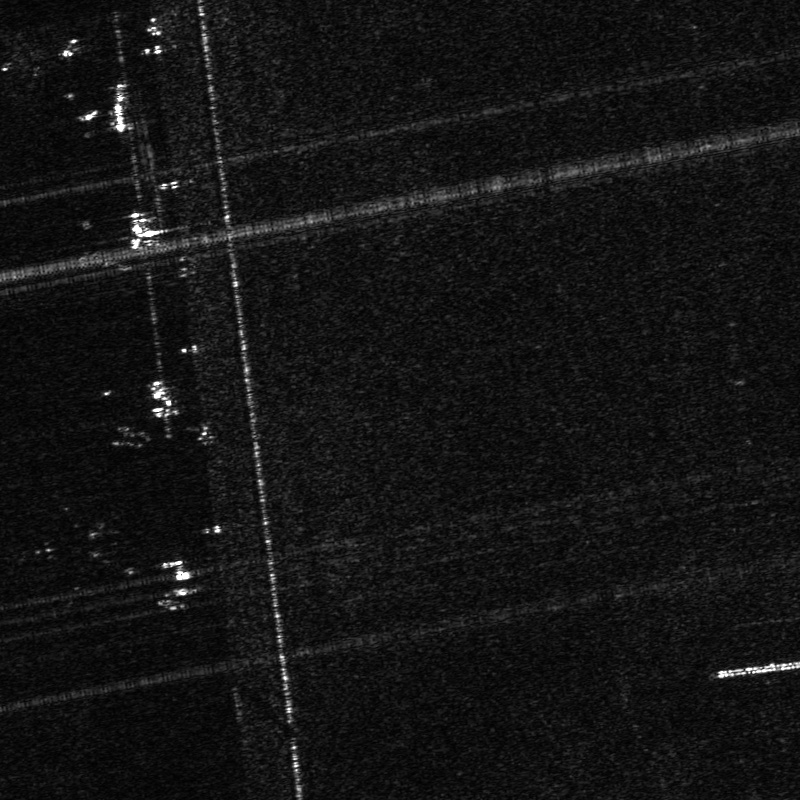A220: (1, 30, 54, 97)
Boeing787: (13, 489, 126, 610)
